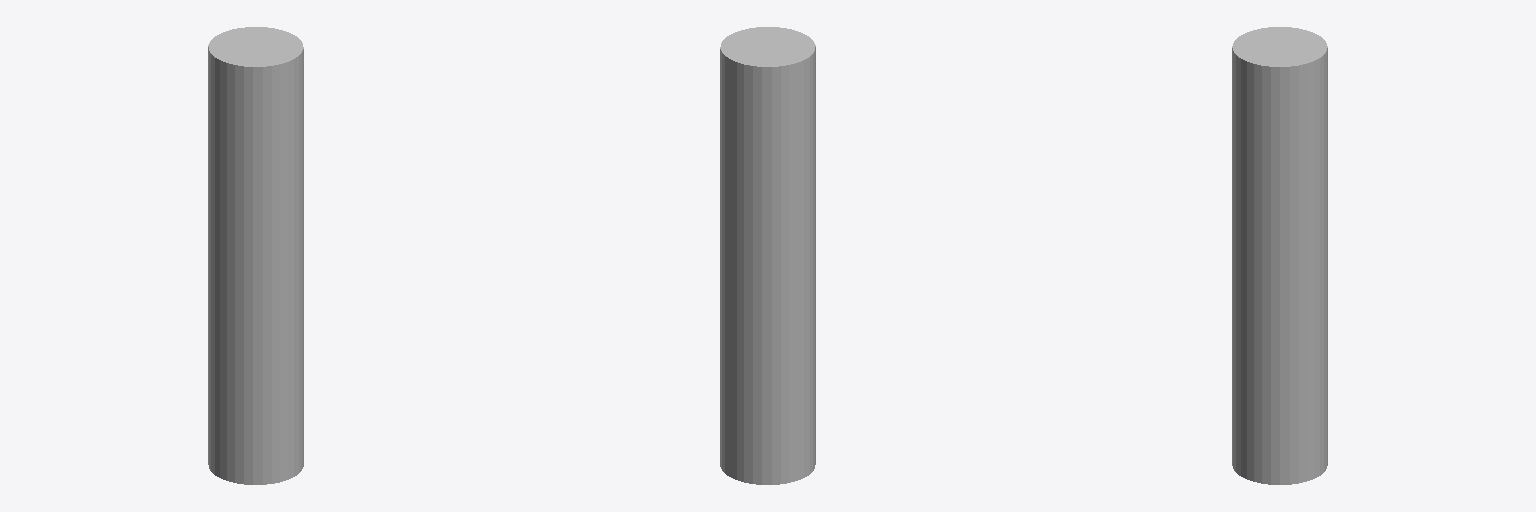
Rendered from house75.obj.
3 renders of one model, left to right at view 1: azimuth 30°, elevation 25°; view 2: azimuth 150°, elevation 25°; view 3: azimuth 270°, elevation 25°, orthographic.
Parts seen in each view (by area): view 1: 円柱; view 2: 円柱; view 3: 円柱.
Part boxes in pixels (x1,y1,x2,y2): 円柱: (208, 27, 303, 484); 円柱: (720, 27, 815, 484); 円柱: (1232, 27, 1327, 484).
Bounding box in the file's own units: 2.4 × 11.6 × 2.4.